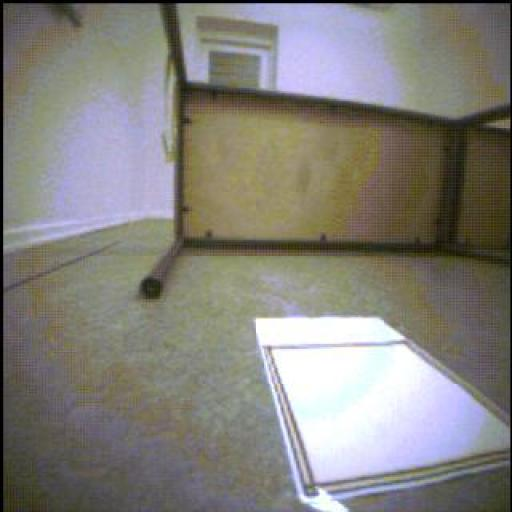Pad: (257, 318, 511, 512)
